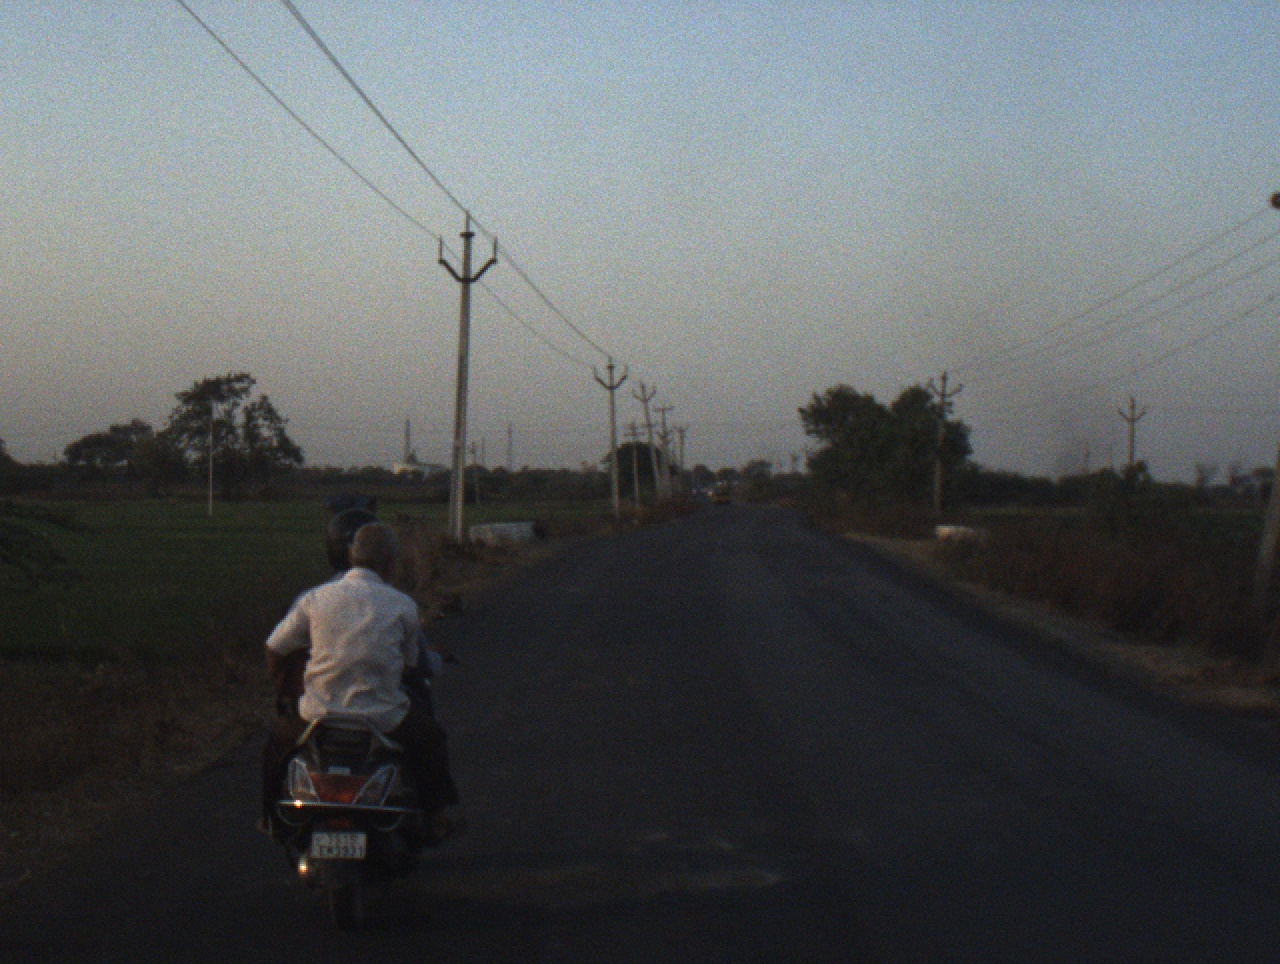autorickshaw: (710, 480, 732, 510)
bicycle: (691, 492, 695, 501)
motorcycle: (255, 590, 483, 944)
rider: (243, 526, 471, 880), (310, 509, 453, 689), (690, 485, 696, 496)
